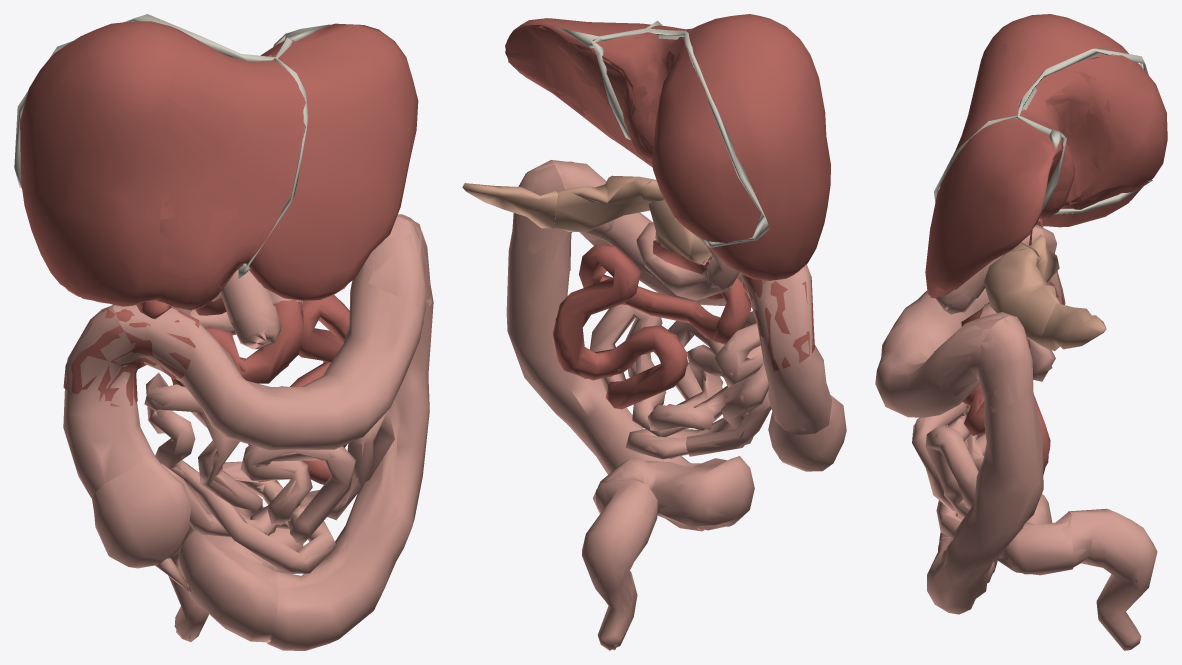
File: adult_female.digestive.LOD4.glb
3 renders of one model, left to right at view 1: azimuth 30°, elevation 25°; view 2: azimuth 150°, elevation 25°; view 3: azimuth 270°, elevation 25°, orthographic. The views are drawn at different scales.
Visible parts, largest first — view 1: ADULT.FEMALE.DIGESTIVE.CAPSULE_OF_THE_LIVER, ADULT.FEMALE.DIGESTIVE.TRANSVERSE_COLON, ADULT.FEMALE.DIGESTIVE.ILEUM, ADULT.FEMALE.DIGESTIVE.DESCENDING_COLON, ADULT.FEMALE.DIGESTIVE.LEFT_SUPEROMEDIAL_SEGMENT1, ADULT.FEMALE.DIGESTIVE.ASCENDING_COLON, ADULT.FEMALE.DIGESTIVE.SIGMOID_COLON, ADULT.FEMALE.DIGESTIVE.CAECUM, ADULT.FEMALE.DIGESTIVE.JEJENUM, ADULT.FEMALE.DIGESTIVE.LEFT_INFEROMEDIAL_SEGMENT, ADULT.FEMALE.DIGESTIVE.HEPATIC_FLEXURE_OF_COLON, ADULT.FEMALE.DIGESTIVE.SPLENIC_FLEXURE_OF_COLON (+6 smaller); view 2: ADULT.FEMALE.DIGESTIVE.CAPSULE_OF_THE_LIVER, ADULT.FEMALE.DIGESTIVE.BARE_AREA_OF_LIVER, ADULT.FEMALE.DIGESTIVE.DESCENDING_COLON, ADULT.FEMALE.DIGESTIVE.JEJENUM, ADULT.FEMALE.DIGESTIVE.ILEUM, ADULT.FEMALE.DIGESTIVE.ASCENDING_COLON, ADULT.FEMALE.DIGESTIVE.RECTUM, ADULT.FEMALE.DIGESTIVE.SIGMOID_COLON, ADULT.FEMALE.DIGESTIVE.BODY_OF_PANCREAS, ADULT.FEMALE.DIGESTIVE.DIAPHRAGMATIC_SURFACE_OF_LIVER, ADULT.FEMALE.DIGESTIVE.TRANSVERSE_COLON, ADULT.FEMALE.DIGESTIVE.CAECUM (+13 smaller); view 3: ADULT.FEMALE.DIGESTIVE.CAPSULE_OF_THE_LIVER, ADULT.FEMALE.DIGESTIVE.DESCENDING_COLON, ADULT.FEMALE.DIGESTIVE.BARE_AREA_OF_LIVER, ADULT.FEMALE.DIGESTIVE.TRANSVERSE_COLON, ADULT.FEMALE.DIGESTIVE.RECTUM, ADULT.FEMALE.DIGESTIVE.ILEUM, ADULT.FEMALE.DIGESTIVE.BODY_OF_PANCREAS, ADULT.FEMALE.DIGESTIVE.SIGMOID_COLON, ADULT.FEMALE.DIGESTIVE.SPLENIC_FLEXURE_OF_COLON, ADULT.FEMALE.DIGESTIVE.CAUDATE_LOBE, ADULT.FEMALE.DIGESTIVE.LEFT_SUPEROMEDIAL_SEGMENT1, ADULT.FEMALE.DIGESTIVE.TAIL_OF_PANCREAS (+6 smaller).
Part boxes in pixels (left/top/right/bottom): ADULT.FEMALE.DIGESTIVE.CAPSULE_OF_THE_LIVER: left=20, top=21, right=418, bottom=310; ADULT.FEMALE.DIGESTIVE.TRANSVERSE_COLON: left=113, top=217, right=425, bottom=450; ADULT.FEMALE.DIGESTIVE.ILEUM: left=144, top=373, right=394, bottom=573; ADULT.FEMALE.DIGESTIVE.DESCENDING_COLON: left=266, top=215, right=433, bottom=650; ADULT.FEMALE.DIGESTIVE.LEFT_SUPEROMEDIAL_SEGMENT1: left=160, top=44, right=308, bottom=219; ADULT.FEMALE.DIGESTIVE.ASCENDING_COLON: left=63, top=305, right=155, bottom=497; ADULT.FEMALE.DIGESTIVE.SIGMOID_COLON: left=177, top=506, right=303, bottom=642; ADULT.FEMALE.DIGESTIVE.CAECUM: left=92, top=457, right=191, bottom=568; ADULT.FEMALE.DIGESTIVE.JEJENUM: left=171, top=295, right=349, bottom=484; ADULT.FEMALE.DIGESTIVE.LEFT_INFEROMEDIAL_SEGMENT: left=150, top=205, right=283, bottom=309; ADULT.FEMALE.DIGESTIVE.HEPATIC_FLEXURE_OF_COLON: left=63, top=304, right=199, bottom=406; ADULT.FEMALE.DIGESTIVE.SPLENIC_FLEXURE_OF_COLON: left=350, top=214, right=431, bottom=324; ADULT.FEMALE.DIGESTIVE.CAPSULE_OF_THE_LIVER: left=505, top=14, right=830, bottom=280; ADULT.FEMALE.DIGESTIVE.BARE_AREA_OF_LIVER: left=589, top=35, right=761, bottom=242; ADULT.FEMALE.DIGESTIVE.DESCENDING_COLON: left=506, top=160, right=704, bottom=531; ADULT.FEMALE.DIGESTIVE.JEJENUM: left=552, top=244, right=750, bottom=409; ADULT.FEMALE.DIGESTIVE.ILEUM: left=589, top=304, right=768, bottom=459; ADULT.FEMALE.DIGESTIVE.ASCENDING_COLON: left=751, top=264, right=831, bottom=434; ADULT.FEMALE.DIGESTIVE.RECTUM: left=582, top=479, right=657, bottom=650; ADULT.FEMALE.DIGESTIVE.SIGMOID_COLON: left=593, top=456, right=754, bottom=530; ADULT.FEMALE.DIGESTIVE.BODY_OF_PANCREAS: left=554, top=175, right=656, bottom=231; ADULT.FEMALE.DIGESTIVE.DIAPHRAGMATIC_SURFACE_OF_LIVER: left=505, top=25, right=802, bottom=280; ADULT.FEMALE.DIGESTIVE.TRANSVERSE_COLON: left=550, top=160, right=764, bottom=307; ADULT.FEMALE.DIGESTIVE.CAECUM: left=768, top=395, right=846, bottom=471; ADULT.FEMALE.DIGESTIVE.CAPSULE_OF_THE_LIVER: left=925, top=14, right=1136, bottom=298; ADULT.FEMALE.DIGESTIVE.DESCENDING_COLON: left=927, top=316, right=1043, bottom=614; ADULT.FEMALE.DIGESTIVE.BARE_AREA_OF_LIVER: left=1023, top=55, right=1167, bottom=207; ADULT.FEMALE.DIGESTIVE.TRANSVERSE_COLON: left=875, top=288, right=1013, bottom=417; ADULT.FEMALE.DIGESTIVE.RECTUM: left=1068, top=508, right=1157, bottom=650; ADULT.FEMALE.DIGESTIVE.ILEUM: left=912, top=339, right=1055, bottom=538; ADULT.FEMALE.DIGESTIVE.BODY_OF_PANCREAS: left=984, top=248, right=1060, bottom=347; ADULT.FEMALE.DIGESTIVE.SIGMOID_COLON: left=939, top=494, right=1073, bottom=575; ADULT.FEMALE.DIGESTIVE.SPLENIC_FLEXURE_OF_COLON: left=930, top=312, right=1033, bottom=416; ADULT.FEMALE.DIGESTIVE.CAUDATE_LOBE: left=1023, top=71, right=1111, bottom=218; ADULT.FEMALE.DIGESTIVE.LEFT_SUPEROMEDIAL_SEGMENT1: left=948, top=43, right=1035, bottom=170; ADULT.FEMALE.DIGESTIVE.TAIL_OF_PANCREAS: left=1042, top=303, right=1106, bottom=350.
Bounding box in the file's own units: 0.2539 × 0.4459 × 0.2011.
